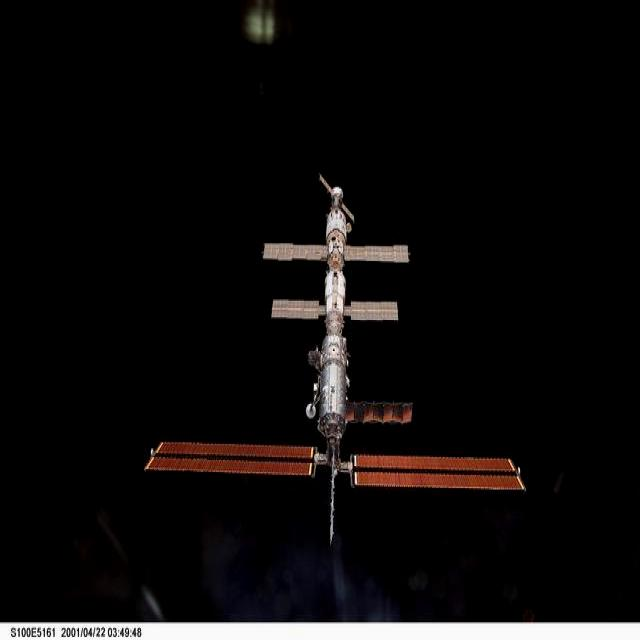medium_debris: (145, 175, 525, 543)
